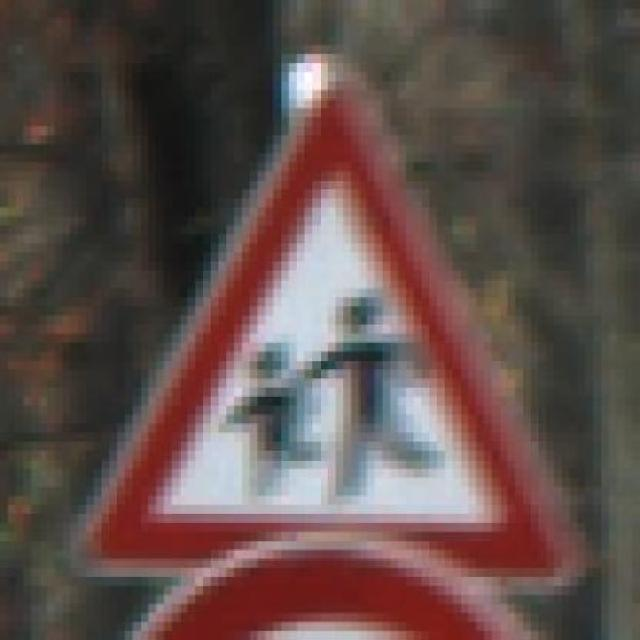Beware of children: (78, 72, 593, 613)
